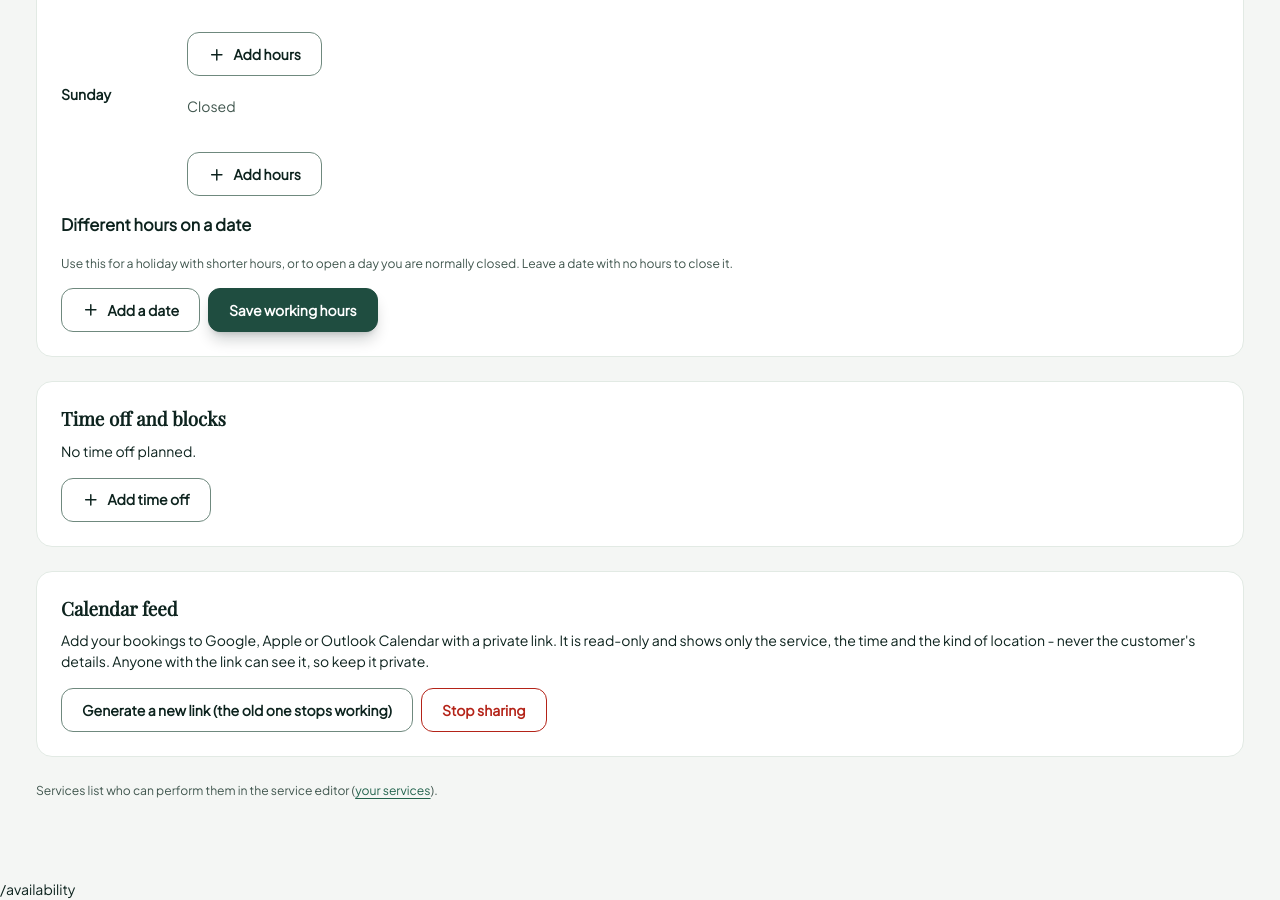
Test: review fixes: availability › confirms before generating a new calendar feed link (the old one stops working)
This screenshot has width=1280, height=900.
(page scrolled)
Step 1. Click the button "Generate a new link (the old one stops working)" → coordinates (237, 710), box [61, 688, 413, 732]
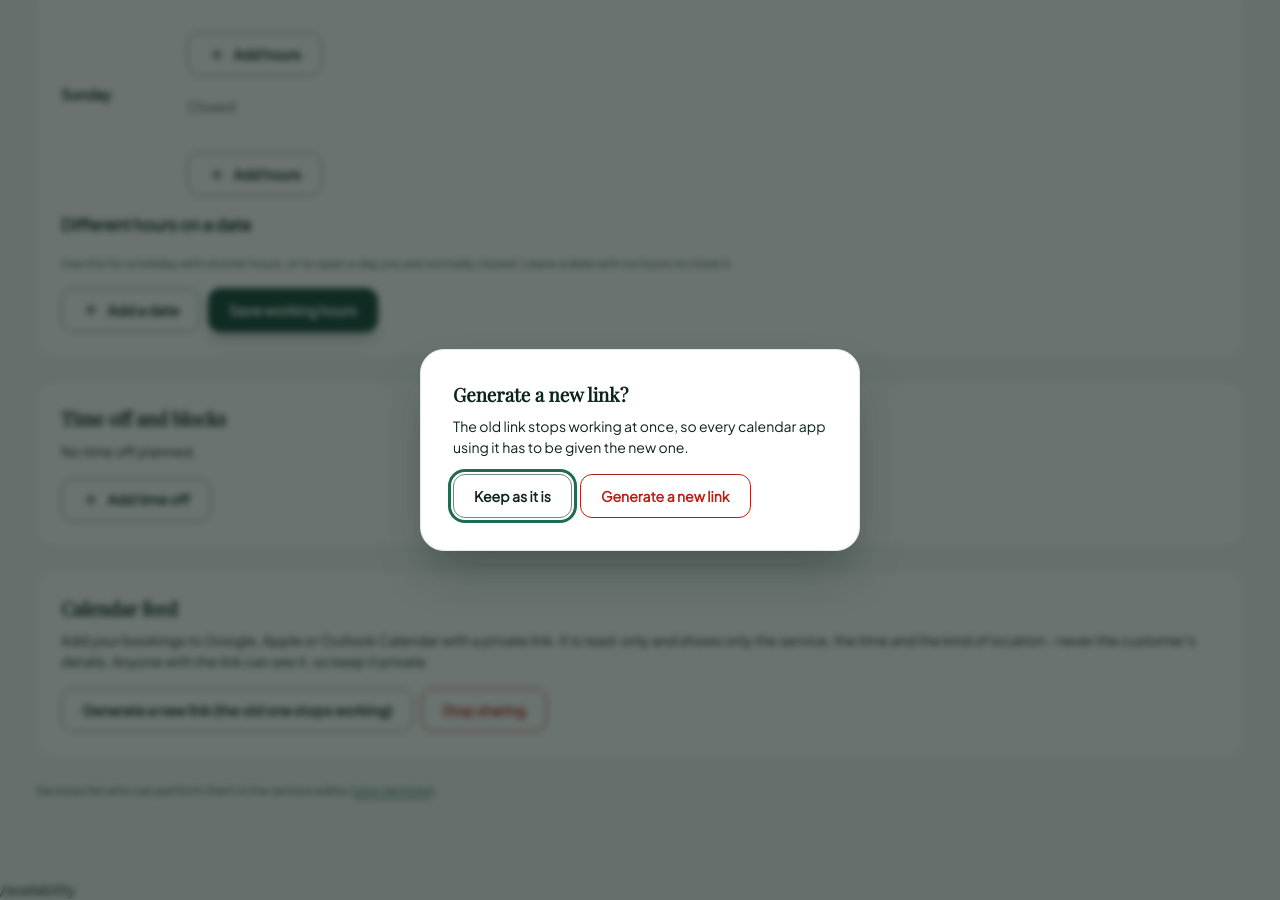
Step 2. Click the button "Generate a new link" → coordinates (665, 496), box [580, 474, 750, 518]
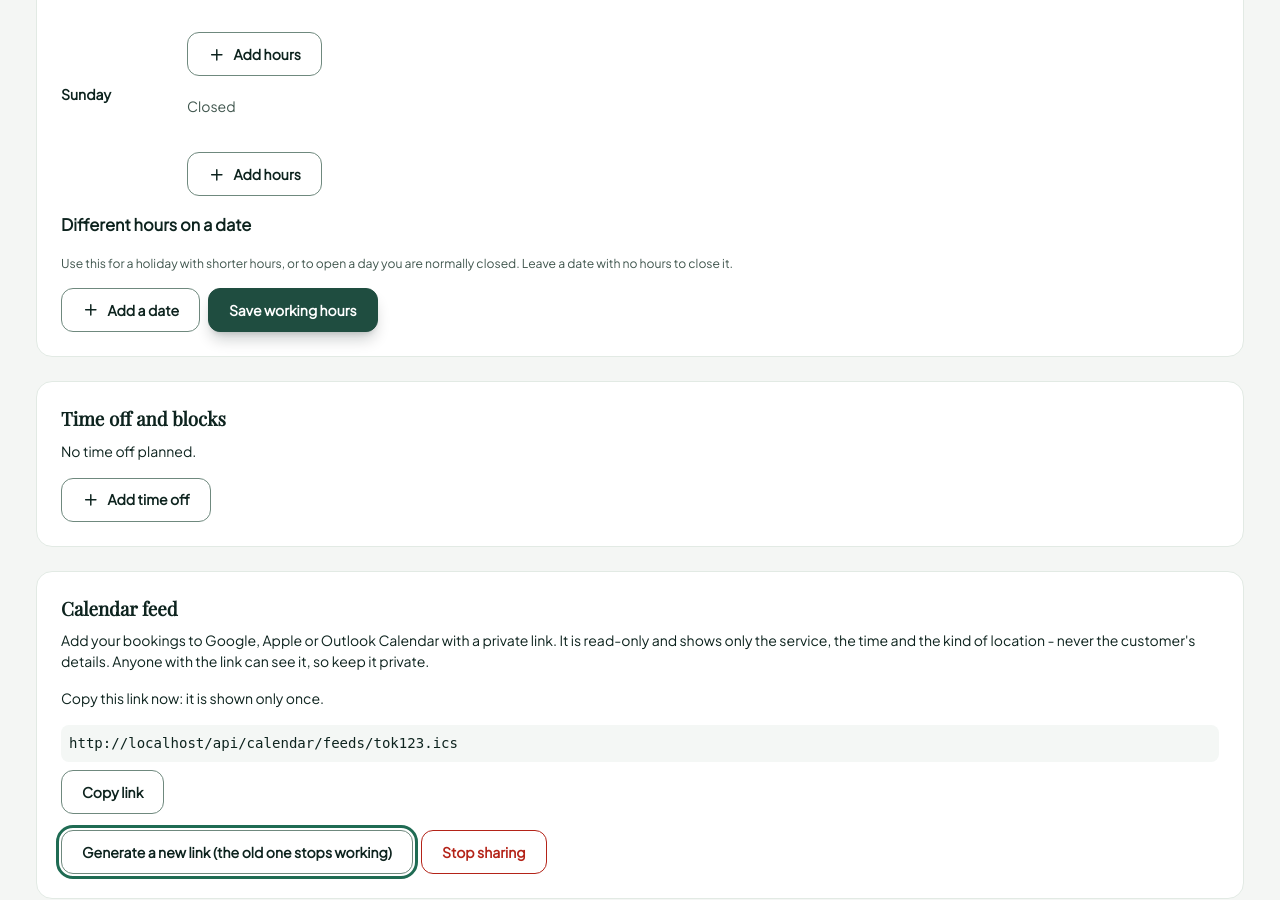
Expected: the text with test id "ics-url" shows "tok123", [69, 735, 458, 751]
